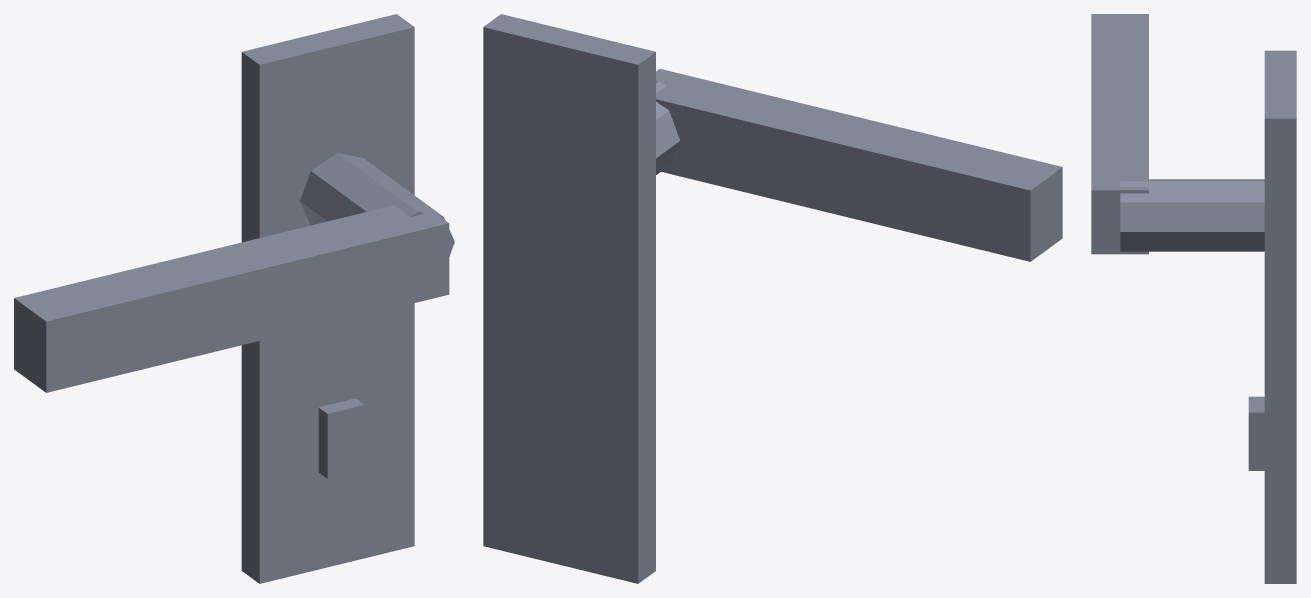
File: Door_Handle.fbx
3 renders of one model, left to right at view 1: azimuth 30°, elevation 25°; view 2: azimuth 150°, elevation 25°; view 3: azimuth 270°, elevation 25°, orthographic. The views are drawn at different scales.
Parts seen in each view (by area): view 1: Door_Handle; view 2: Door_Handle; view 3: Door_Handle.
Boxes of the visible parts, bbox=[...] form: Door_Handle: bbox=[14, 14, 454, 583]; Door_Handle: bbox=[483, 14, 1062, 583]; Door_Handle: bbox=[1091, 14, 1296, 583].
Size of the model in its own units: 0.15 by 0.16 by 0.064.
